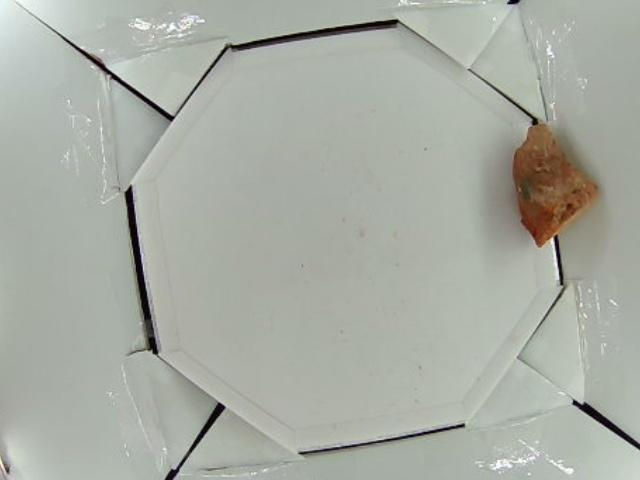Brisk: (514, 125, 596, 246)
